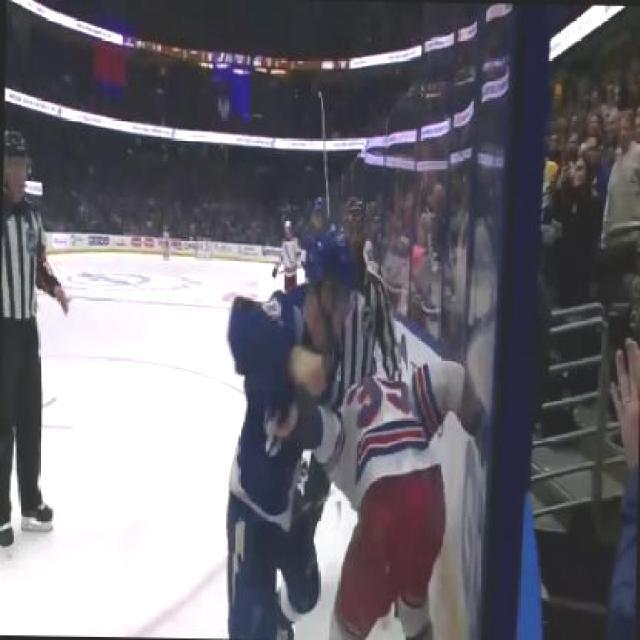fight: (222, 223, 484, 639)
non-fight: (0, 124, 72, 552)
